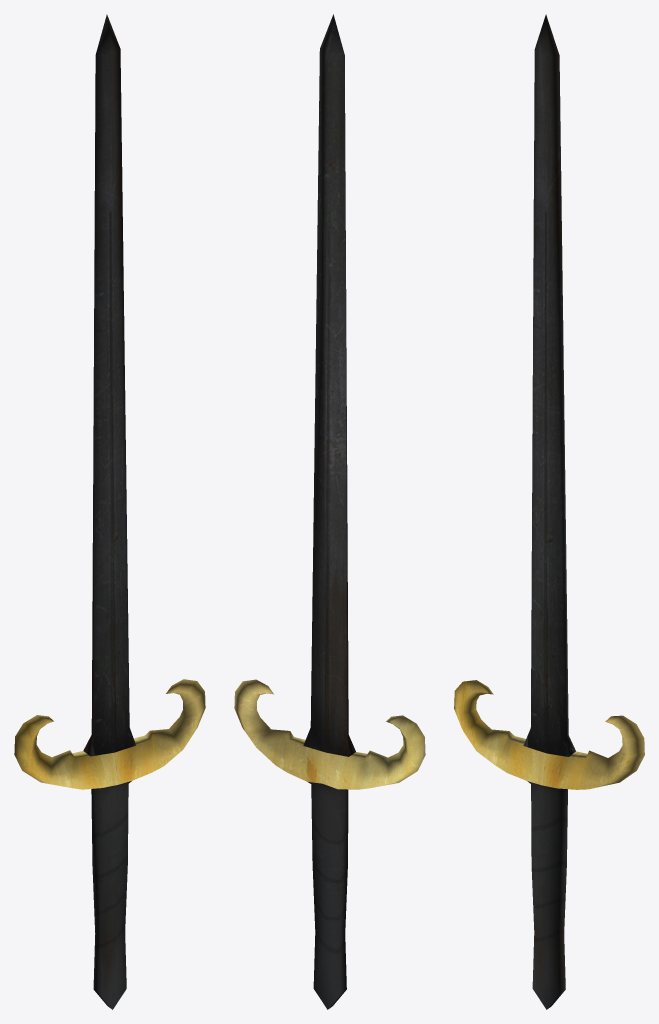
Rendered from blackpanther_sword.glb.
3 views of the same model, side by side, from view 1: azimuth 30°, elevation 25°; view 2: azimuth 150°, elevation 25°; view 3: azimuth 330°, elevation 25° (orthographic).
Parts seen in each view (by area): view 1: weapons/blackpanther_sword_0; view 2: weapons/blackpanther_sword_0; view 3: weapons/blackpanther_sword_0.
Boxes of the visible parts, x1,y1,x2,y2 form: weapons/blackpanther_sword_0: [14, 14, 205, 1009]; weapons/blackpanther_sword_0: [234, 14, 425, 1009]; weapons/blackpanther_sword_0: [454, 14, 644, 1009].
Size of the model in its own units: 0.4021 by 2 by 0.0553.
1 material, 1 textured.
